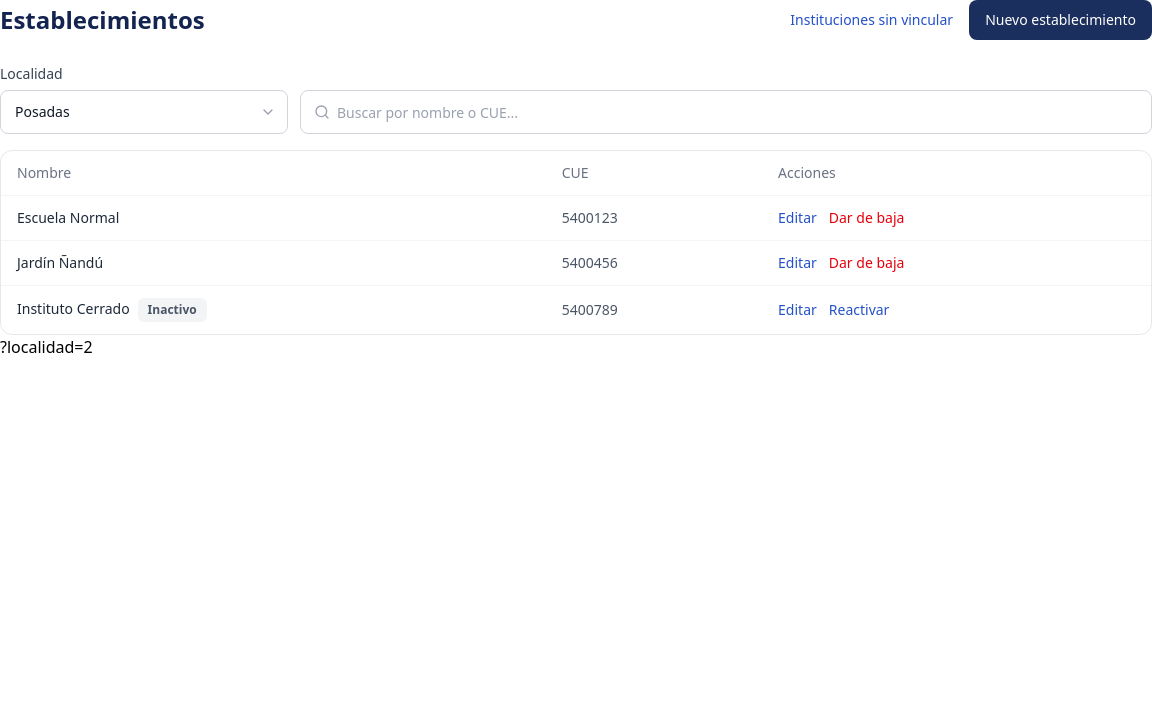
EstablecimientosPage: baja y reactivación (criterio 7) › si la baja falla avisa con un alert
The image size is (1152, 720).
Click the button "Dar de baja" in the row of "Escuela Normal": (867, 218) [829,208,904,228]
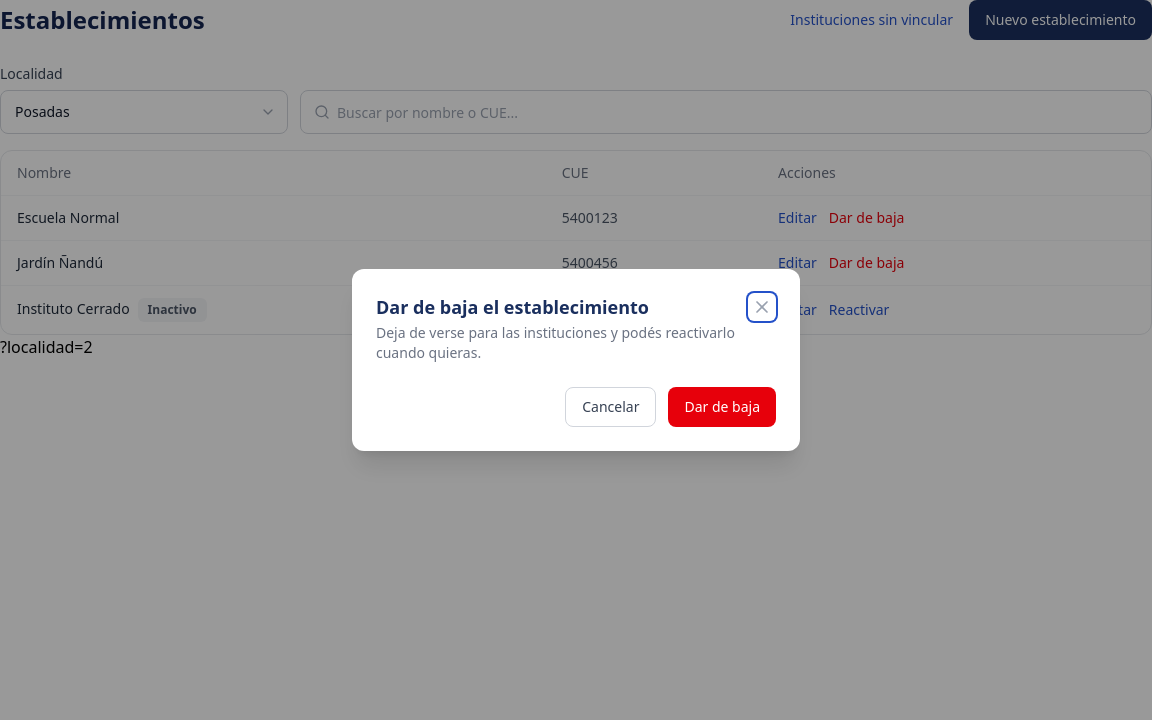
Click the button "Dar de baja": (722, 407) [668,387,776,427]
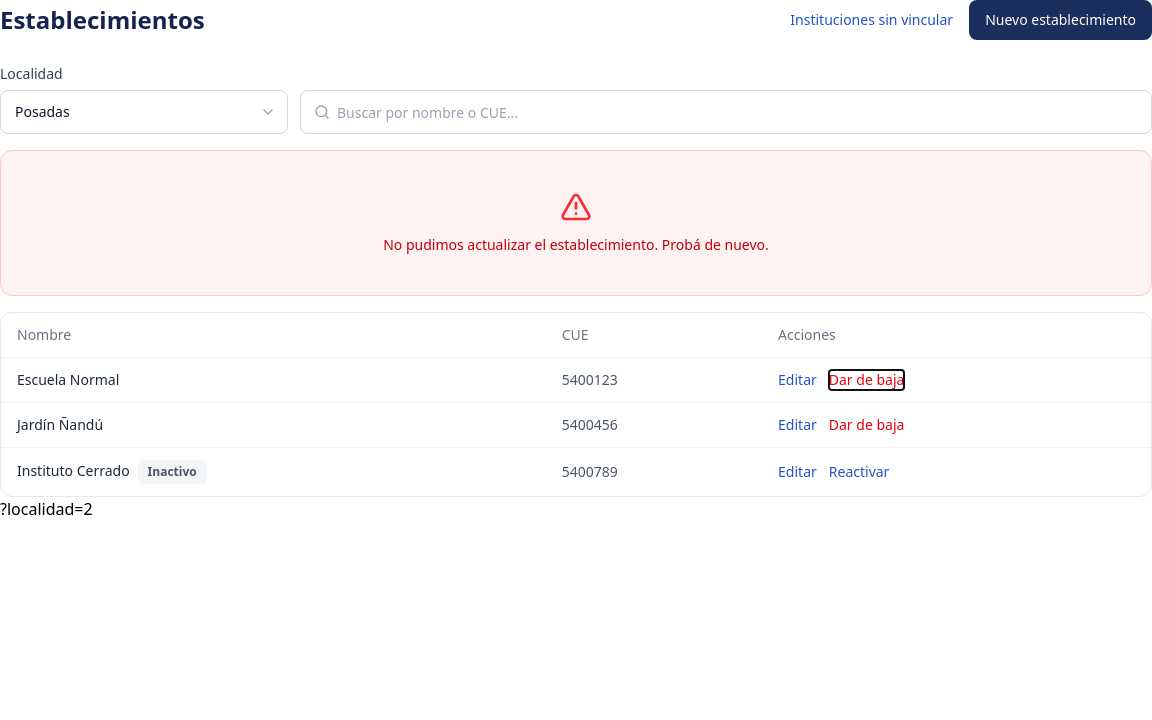
Check: the message "No pudimos actualizar el establecimiento. Probá de nuevo." is shown, box [0,150,1151,296]
